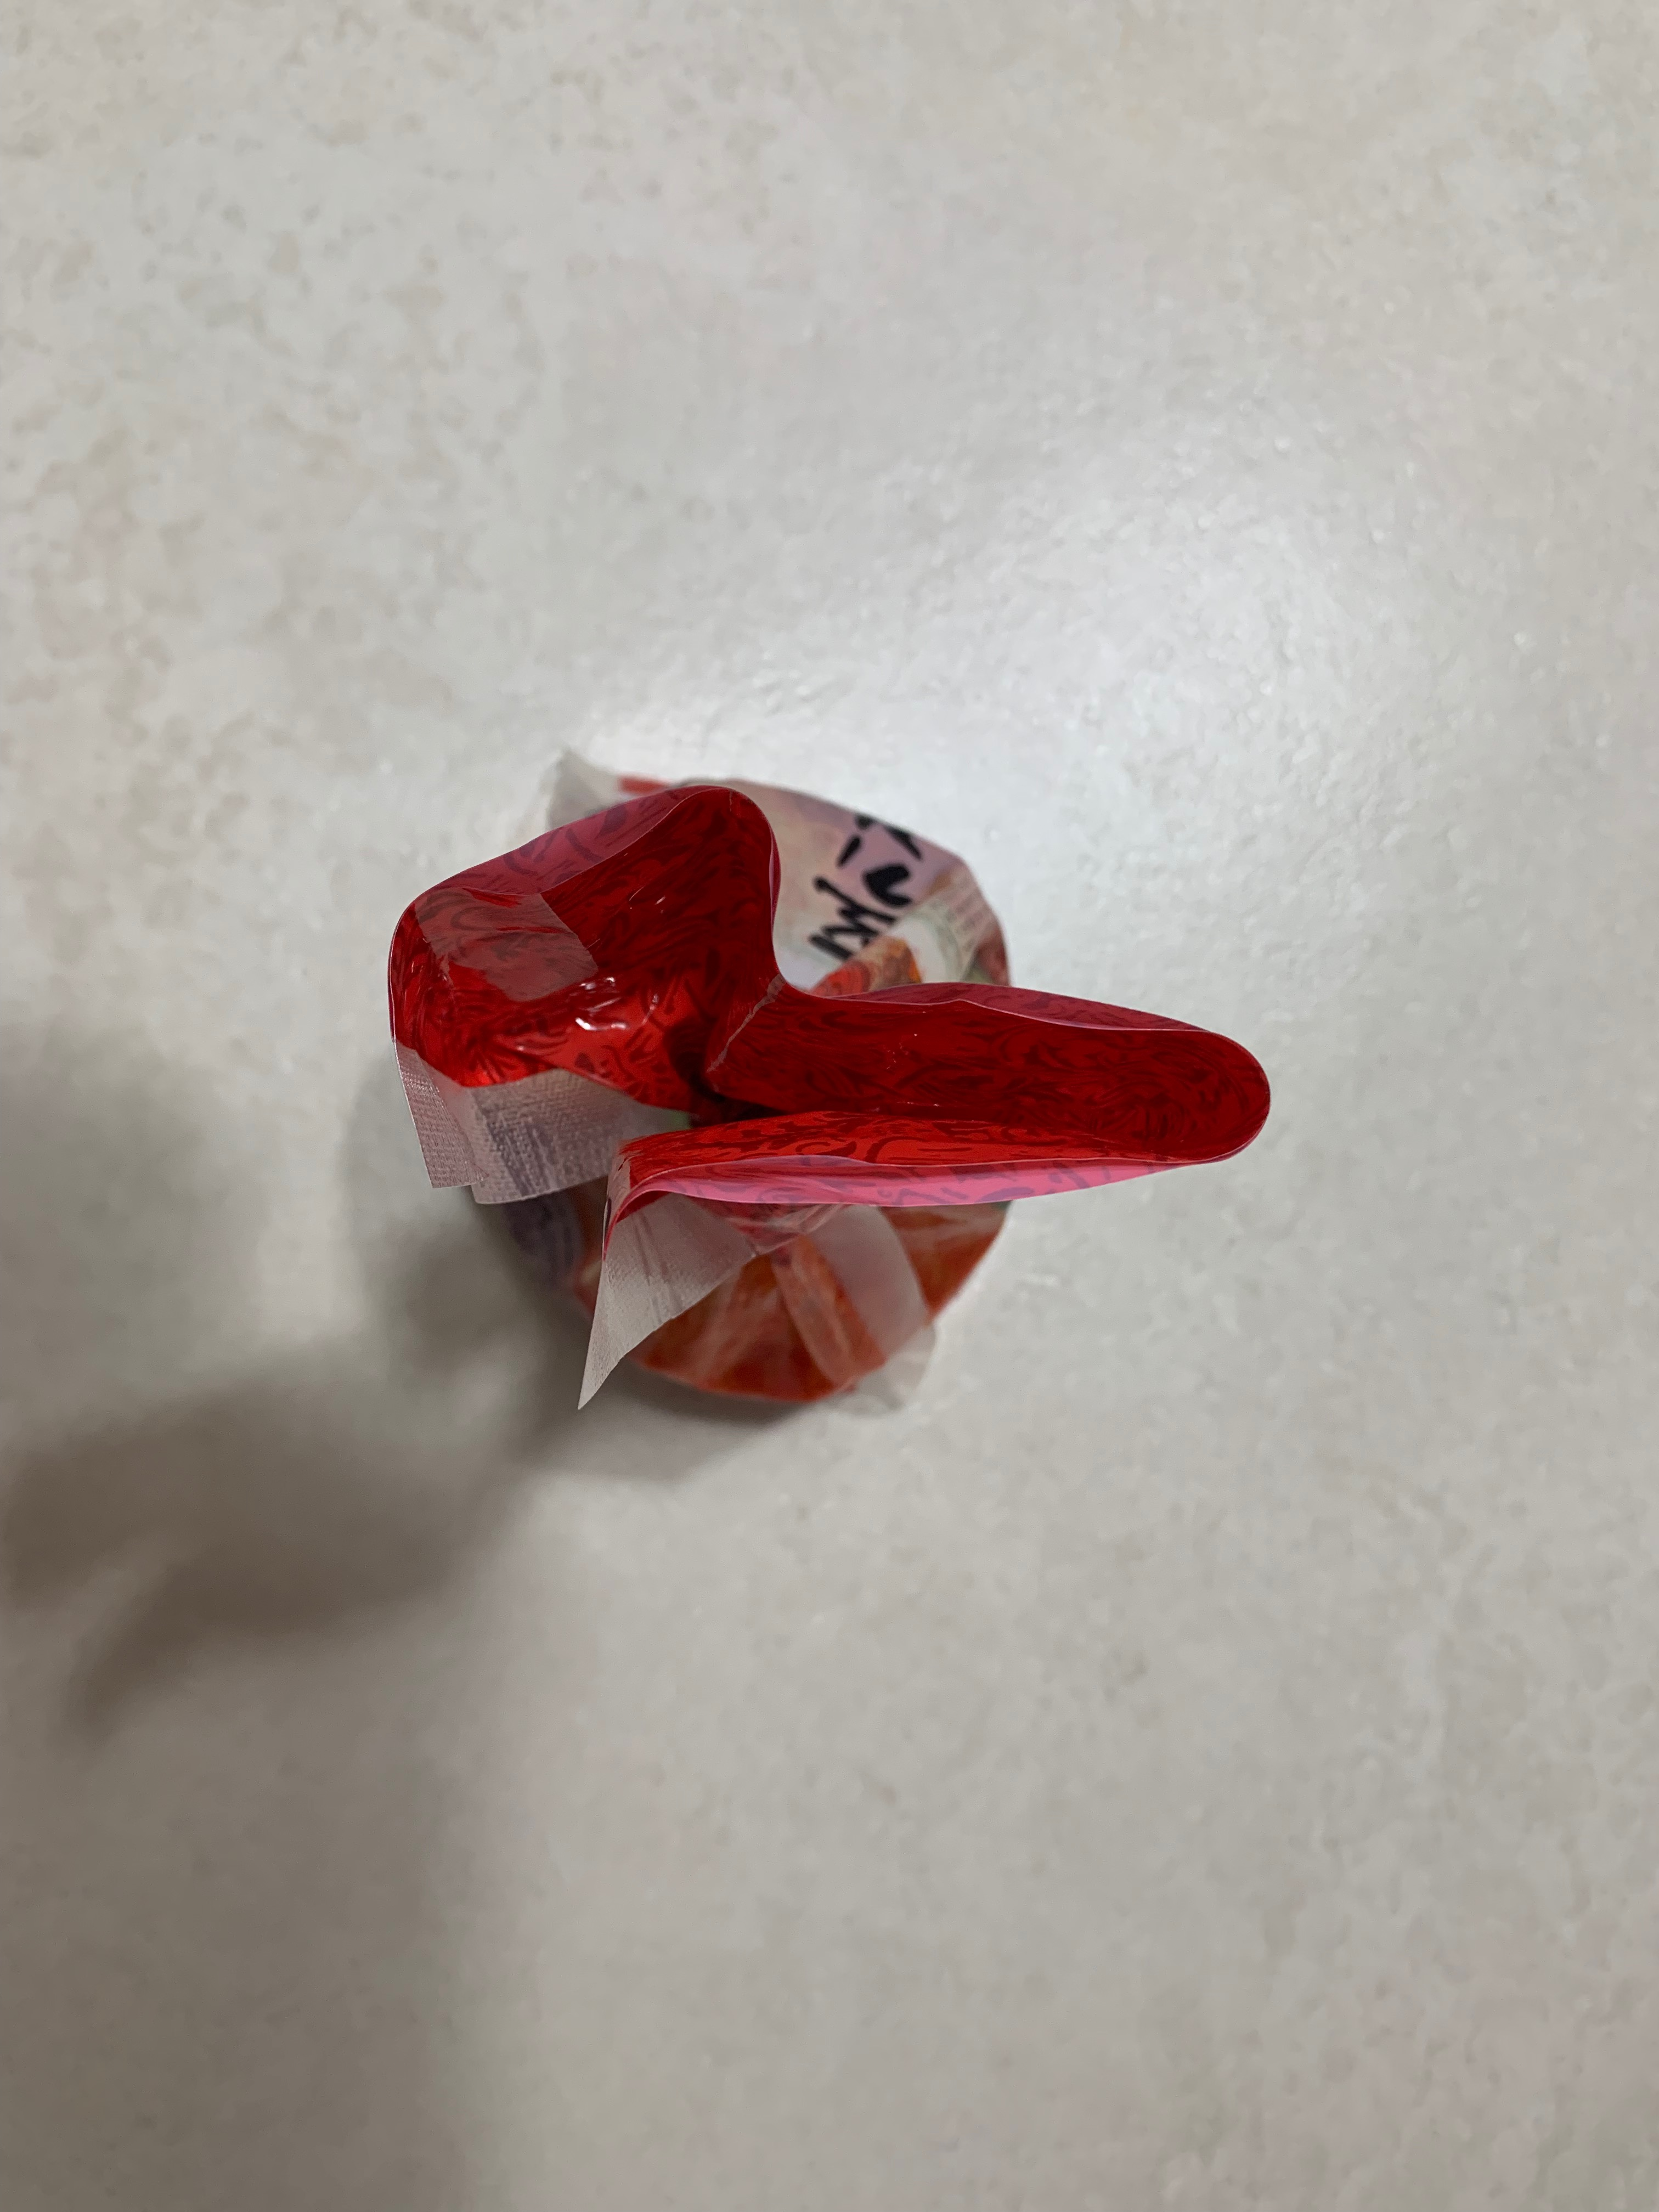kimchi: (389, 773, 1270, 1416)
